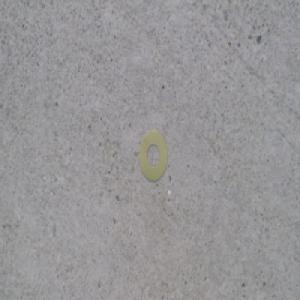Washer: (139, 129, 169, 182)
